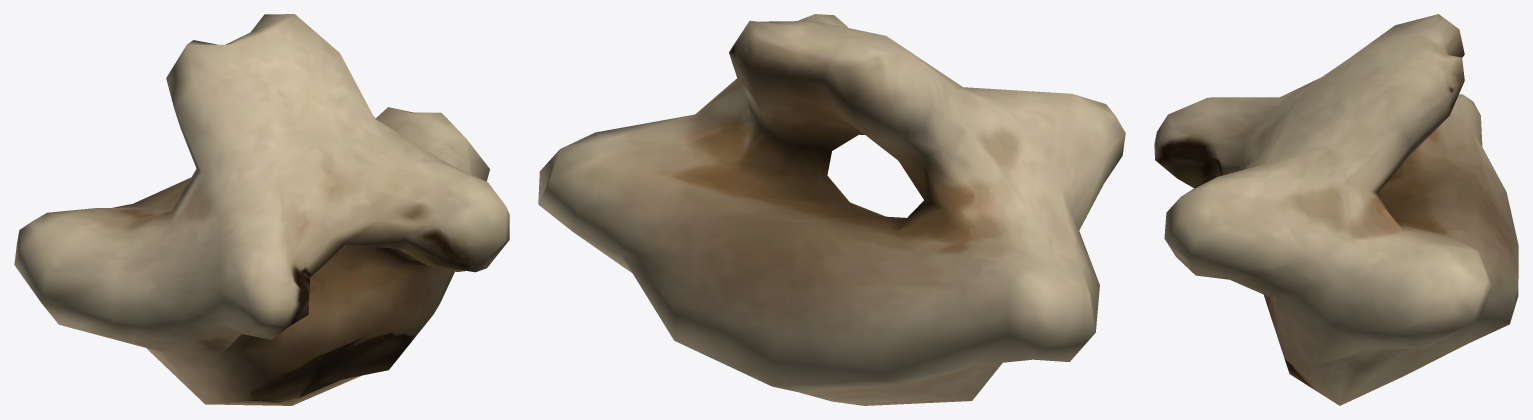
The model's file is Caudal_Vertebrae1.glb.
3 views of the same model, side by side, from view 1: azimuth 30°, elevation 25°; view 2: azimuth 150°, elevation 25°; view 3: azimuth 270°, elevation 25° (orthographic). The views are drawn at different scales.
Visible parts, largest first — view 1: Caudal_Vertebrae_20:Group28809; view 2: Caudal_Vertebrae_20:Group28809; view 3: Caudal_Vertebrae_20:Group28809.
Boxes of the visible parts, x1,y1,x2,y2 form: Caudal_Vertebrae_20:Group28809: (14, 14, 509, 405); Caudal_Vertebrae_20:Group28809: (538, 14, 1125, 405); Caudal_Vertebrae_20:Group28809: (1154, 14, 1518, 405).
Bounding box in the file's own units: 20.63 × 15.23 × 14.68.
1 material, 1 textured.
